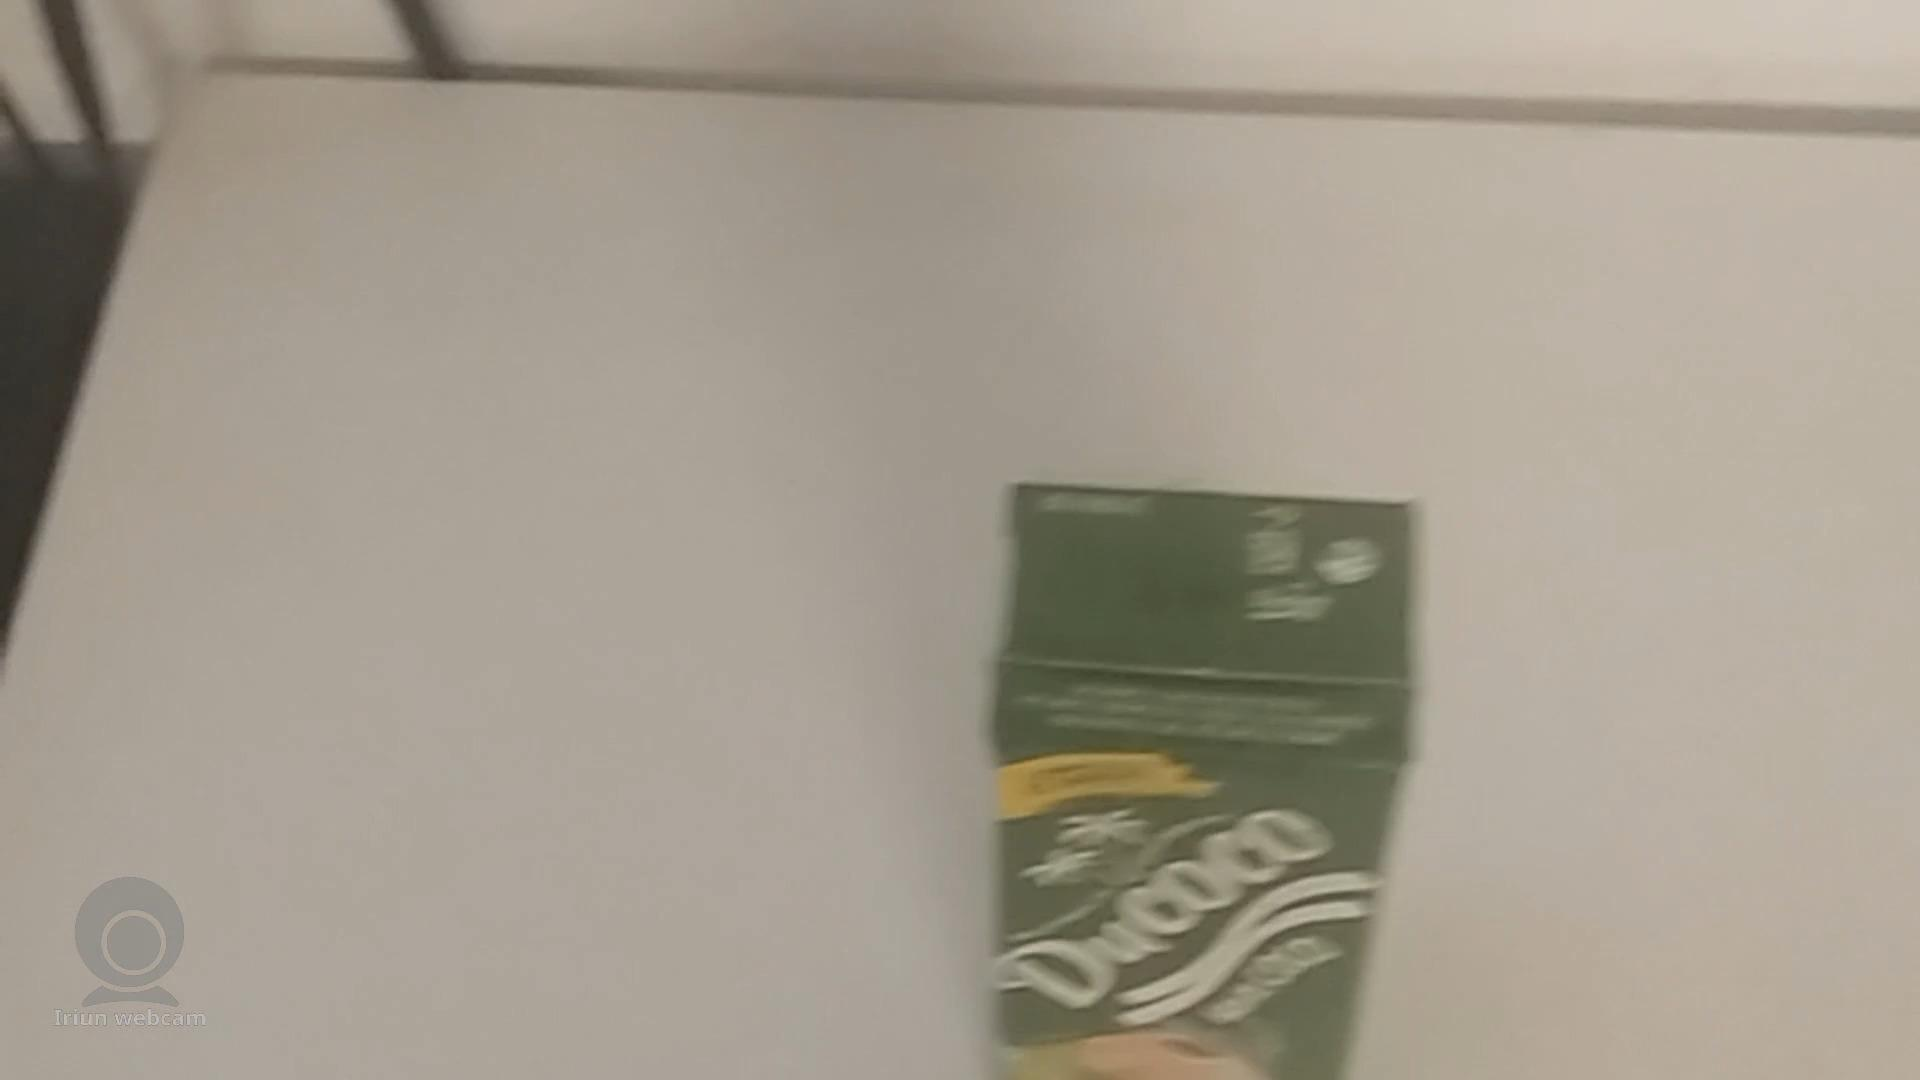coco: (977, 463, 1429, 1080)
